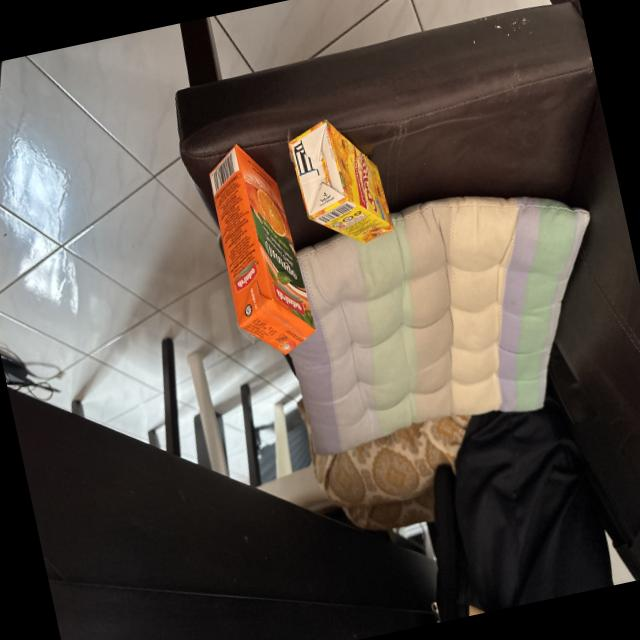drink_carton: (194, 130, 326, 370), (277, 102, 403, 267)
